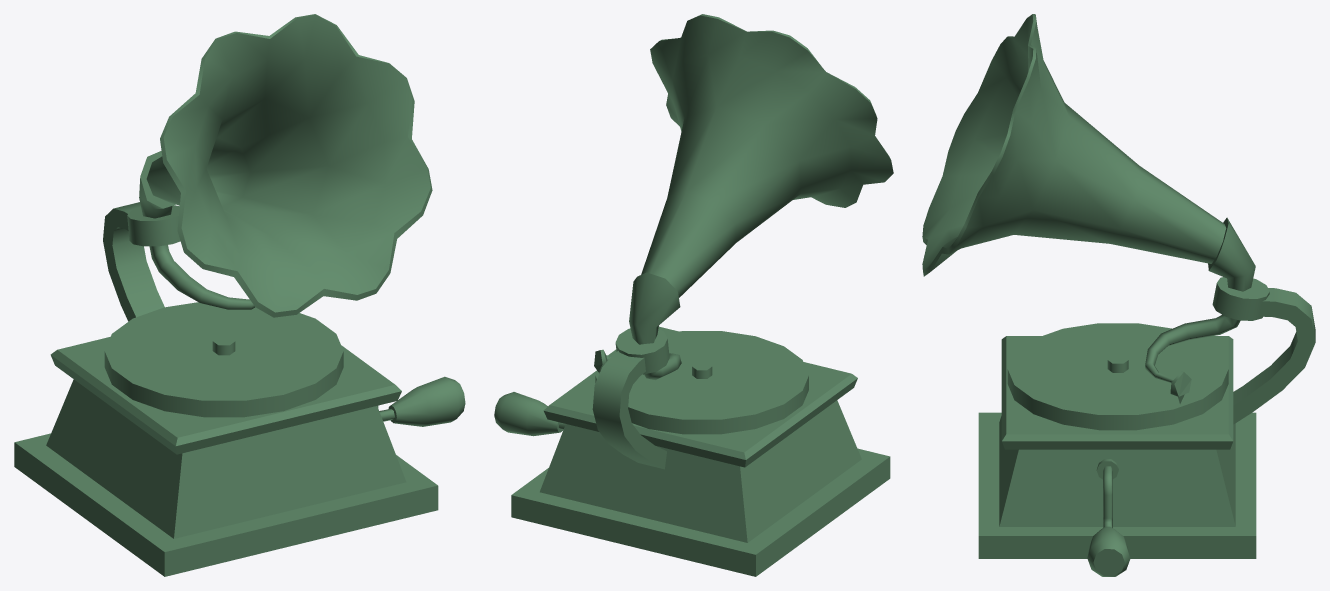
The model's file is Gramophone.FBX.
3 views of the same model, side by side, from view 1: azimuth 30°, elevation 25°; view 2: azimuth 150°, elevation 25°; view 3: azimuth 270°, elevation 25° (orthographic). The views are drawn at different scales.
Visible parts, largest first — view 1: Gramophone; view 2: Gramophone; view 3: Gramophone.
Part boxes in pixels (<box>): Gramophone: <box>14,14,465,576</box>; Gramophone: <box>494,14,893,576</box>; Gramophone: <box>922,14,1315,576</box>.
Size of the model in its own units: 80.73 by 106 by 81.77.
